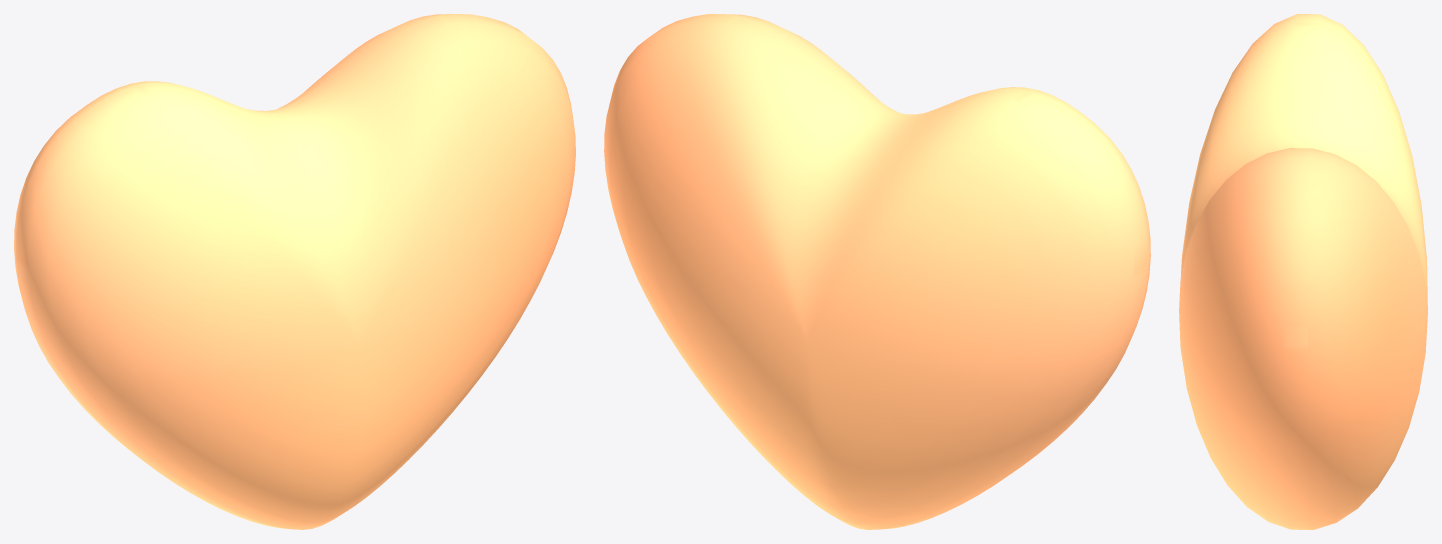
File: heart-warm-apricot-v8.glb
3 views of the same model, side by side, from view 1: azimuth 30°, elevation 25°; view 2: azimuth 150°, elevation 25°; view 3: azimuth 270°, elevation 25° (orthographic). The views are drawn at different scales.
Parts seen in each view (by area): view 1: Heart_Glass; view 2: Heart_Glass; view 3: Heart_Glass.
Boxes of the visible parts, <box> form: Heart_Glass: <box>14,14,575,529</box>; Heart_Glass: <box>604,14,1150,529</box>; Heart_Glass: <box>1179,14,1427,529</box>.
Bounding box in the file's own units: 0.0801 × 0.0665 × 0.0347.
1 material, 1 textured.
